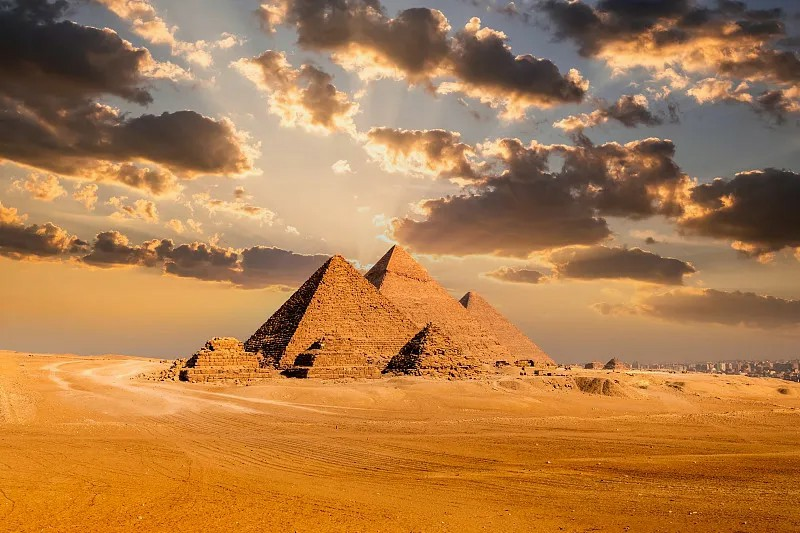Pyramid: (245, 254, 422, 367), (364, 244, 518, 364), (458, 292, 559, 367), (382, 322, 486, 374), (280, 331, 383, 378), (176, 336, 277, 381)
